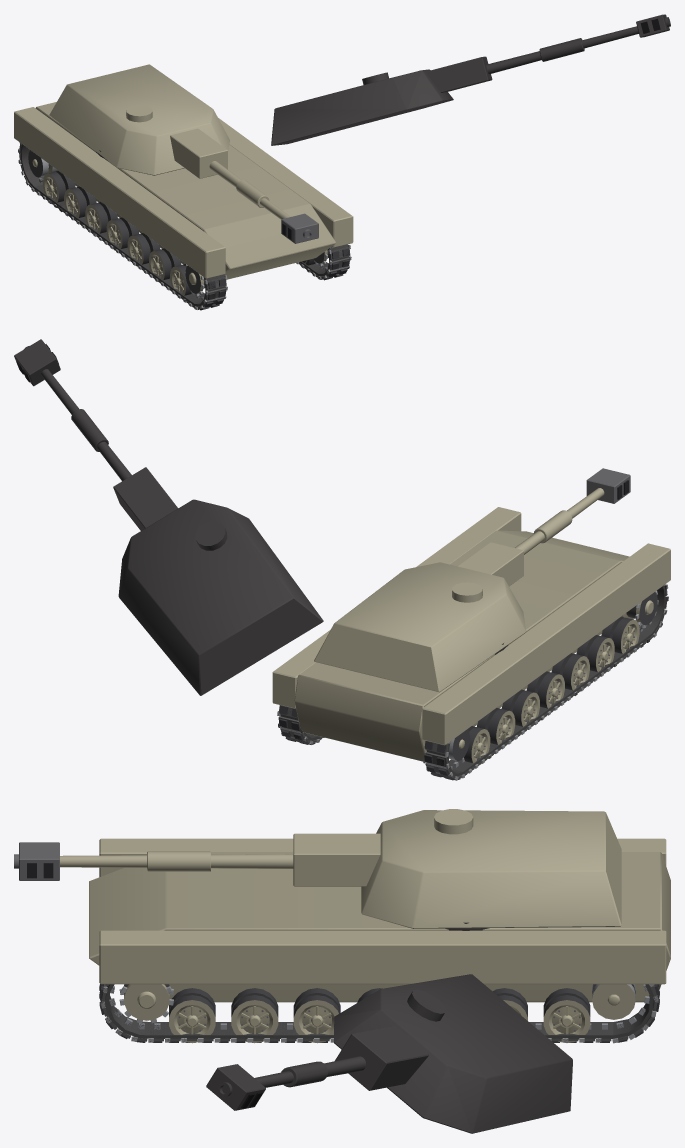
File: artillery__d_30_2s1.glb
The picture shows the model from 3 angles, top to bottom: view 1: azimuth 30°, elevation 25°; view 2: azimuth 150°, elevation 25°; view 3: azimuth 270°, elevation 25°; orthographic projection. The views are drawn at different scales.
Visible parts, largest first — view 1: Hull_Mesh, Wreck, Turret_Mesh, Gun_Mesh, Track_L_Mesh, Track_R_Mesh, Wheel_L3_Mesh, Wheel_L2_Mesh, Wheel_L4_Mesh, Wheel_L1_Mesh, Wheel_L0_Mesh, Wheel_L5_Mesh (+1 smaller); view 2: Hull_Mesh, Wreck, Turret_Mesh, Gun_Mesh, Track_L_Mesh, Wheel_L1_Mesh, Wheel_L6_Mesh, Wheel_L4_Mesh, Wheel_L5_Mesh, Wheel_L2_Mesh, Wheel_L3_Mesh, Track_R_Mesh (+2 smaller); view 3: Hull_Mesh, Wreck, Turret_Mesh, Gun_Mesh, Track_R_Mesh, Wheel_R0_Mesh, Wheel_R5_Mesh, Wheel_R6_Mesh, Wheel_R4_Mesh, Sprocket_R_Mesh, Idler_R_Mesh, Wheel_R1_Mesh.
Boxes of the visible parts, x1=… form: Hull_Mesh: x1=14, y1=102, x2=353, y2=279; Wreck: x1=18, y1=14, x2=670, y2=309; Turret_Mesh: x1=49, y1=64, x2=229, y2=175; Gun_Mesh: x1=170, y1=128, x2=318, y2=243; Track_L_Mesh: x1=18, y1=142, x2=227, y2=310; Track_R_Mesh: x1=296, y1=244, x2=351, y2=280; Wheel_L3_Mesh: x1=106, y1=217, x2=138, y2=250; Wheel_L2_Mesh: x1=85, y1=202, x2=117, y2=234; Wheel_L4_Mesh: x1=127, y1=233, x2=160, y2=266; Wheel_L1_Mesh: x1=64, y1=186, x2=96, y2=217; Wheel_L0_Mesh: x1=43, y1=171, x2=75, y2=203; Wheel_L5_Mesh: x1=149, y1=248, x2=181, y2=280; Hull_Mesh: x1=272, y1=507, x2=670, y2=761; Wreck: x1=14, y1=339, x2=668, y2=778; Turret_Mesh: x1=314, y1=562, x2=526, y2=692; Gun_Mesh: x1=458, y1=468, x2=630, y2=586; Track_L_Mesh: x1=423, y1=584, x2=668, y2=780; Wheel_L1_Mesh: x1=477, y1=708, x2=515, y2=746; Wheel_L6_Mesh: x1=601, y1=616, x2=639, y2=654; Wheel_L4_Mesh: x1=551, y1=653, x2=589, y2=692; Wheel_L5_Mesh: x1=576, y1=635, x2=614, y2=673; Wheel_L2_Mesh: x1=501, y1=689, x2=539, y2=726; Wheel_L3_Mesh: x1=526, y1=671, x2=564, y2=710; Track_R_Mesh: x1=277, y1=705, x2=324, y2=744; Hull_Mesh: x1=89, y1=838, x2=670, y2=1002; Wreck: x1=99, y1=922, x2=658, y2=1133; Turret_Mesh: x1=361, y1=809, x2=621, y2=928; Gun_Mesh: x1=14, y1=833, x2=380, y2=886; Track_R_Mesh: x1=99, y1=984, x2=659, y2=1043; Wheel_R0_Mesh: x1=543, y1=988, x2=590, y2=1042; Wheel_R5_Mesh: x1=231, y1=988, x2=278, y2=1043; Wheel_R6_Mesh: x1=169, y1=988, x2=215, y2=1043; Wheel_R4_Mesh: x1=293, y1=988, x2=340, y2=1043; Sprocket_R_Mesh: x1=119, y1=984, x2=173, y2=1023; Idler_R_Mesh: x1=592, y1=984, x2=635, y2=1019; Wheel_R1_Mesh: x1=493, y1=988, x2=527, y2=1020.
Size of what is drawn, in the model's own units: 10.56 by 3.07 by 8.
